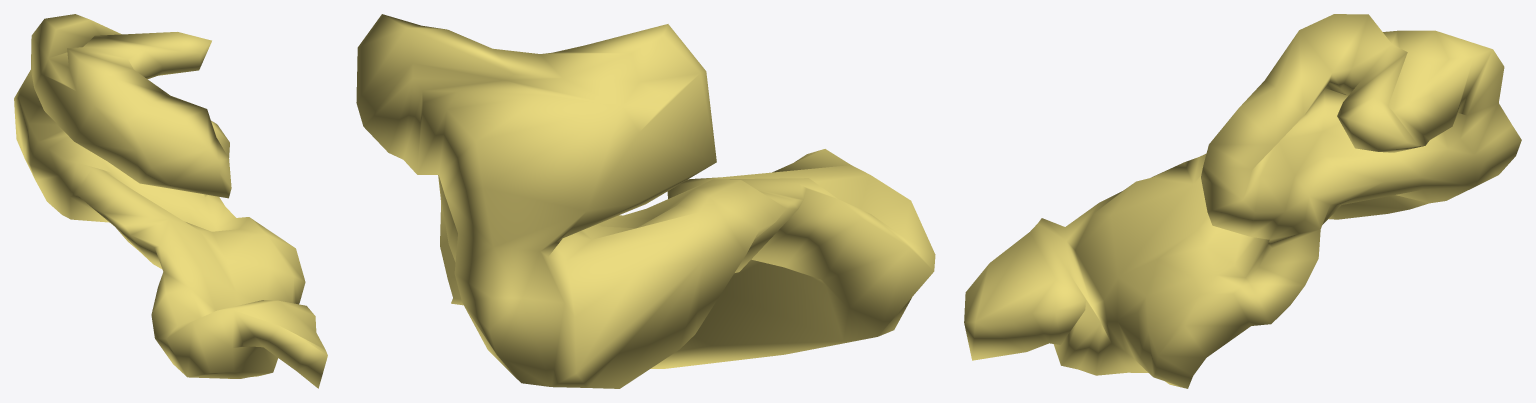
The model's file is temporal-plane-r.glb.
3 views of the same model, side by side, from view 1: azimuth 30°, elevation 25°; view 2: azimuth 150°, elevation 25°; view 3: azimuth 270°, elevation 25° (orthographic). The views are drawn at different scales.
Parts seen in each view (by area): view 1: Temporal plane.r; view 2: Temporal plane.r; view 3: Temporal plane.r.
Boxes of the visible parts, x1=… form: Temporal plane.r: x1=14, y1=14, x2=327, y2=388; Temporal plane.r: x1=356, y1=14, x2=935, y2=388; Temporal plane.r: x1=964, y1=14, x2=1521, y2=388.
Size of the model in its own units: 0.0206 by 0.0274 by 0.0438.
